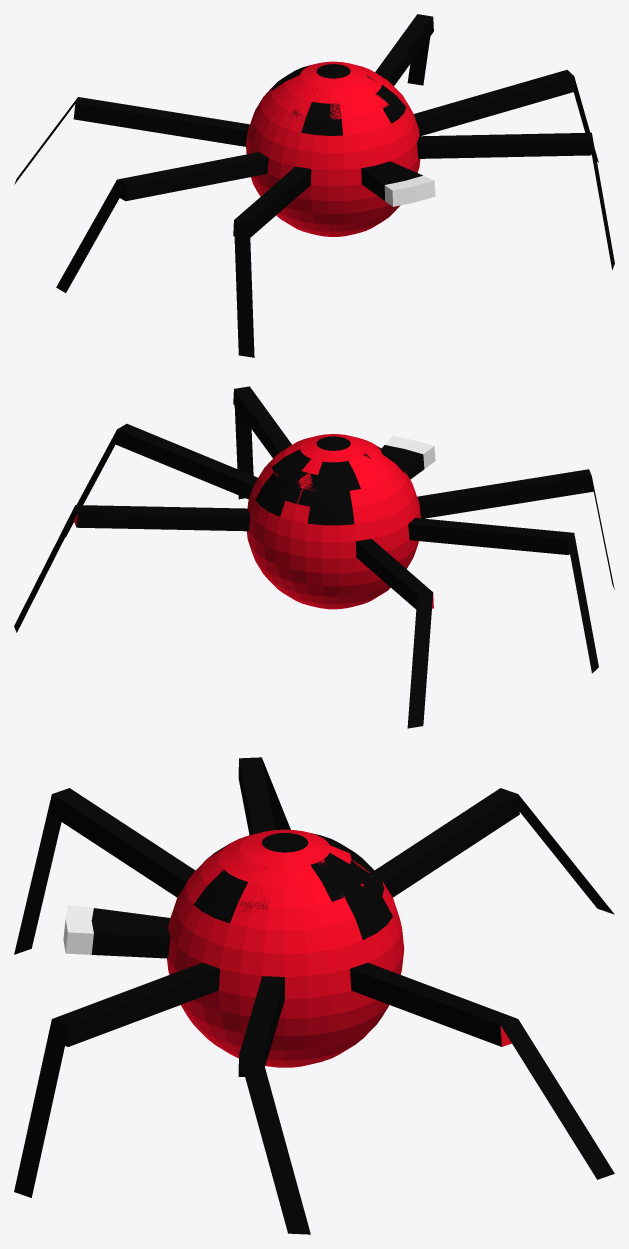
Rendered from ladybug2.fbx.
3 renders of one model, top to bottom at view 1: azimuth 30°, elevation 25°; view 2: azimuth 150°, elevation 25°; view 3: azimuth 270°, elevation 25°, orthographic. The views are drawn at different scales.
Visible parts, largest first — view 1: Sphere; view 2: Sphere; view 3: Sphere.
Part boxes in pixels (x1,y1,x2,y2): Sphere: (14, 14, 614, 357); Sphere: (14, 386, 614, 728); Sphere: (14, 757, 614, 1234).
Bounding box in the file's own units: 705 × 215 × 504.
